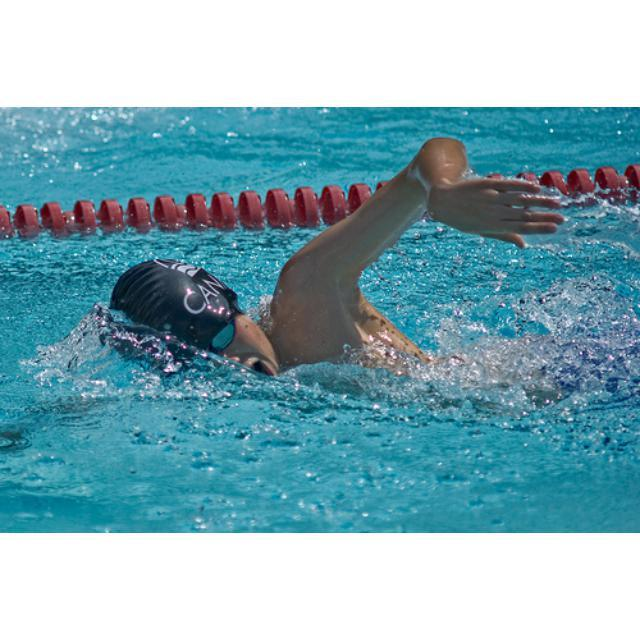human: (107, 136, 569, 400)
